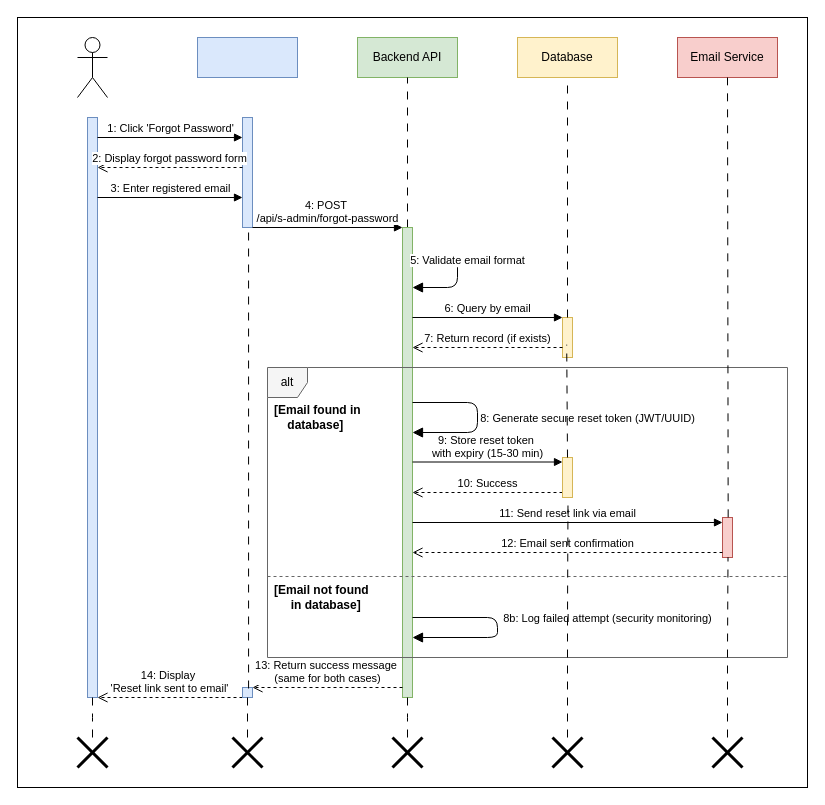
The diagram is 825 pixels wide and 805 high, and some of its shapes have lost their labels. Each missing label, with the centre of its shape:
Frontend UI: the point at 247,57
Super Admin: the point at 92,67
